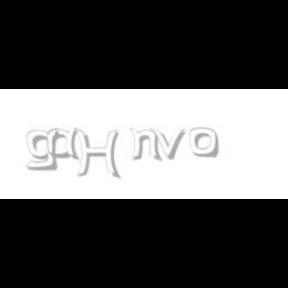H: (74, 128, 120, 180)
a: (46, 128, 84, 160)
g: (26, 128, 62, 171)
n: (129, 128, 163, 162)
o: (190, 128, 218, 158)
v: (149, 128, 189, 160)
